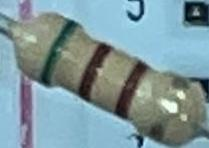Brown: (71, 39, 117, 101), (110, 59, 152, 122)
Green: (37, 20, 81, 88)
Side-Silver: (148, 75, 194, 145)
